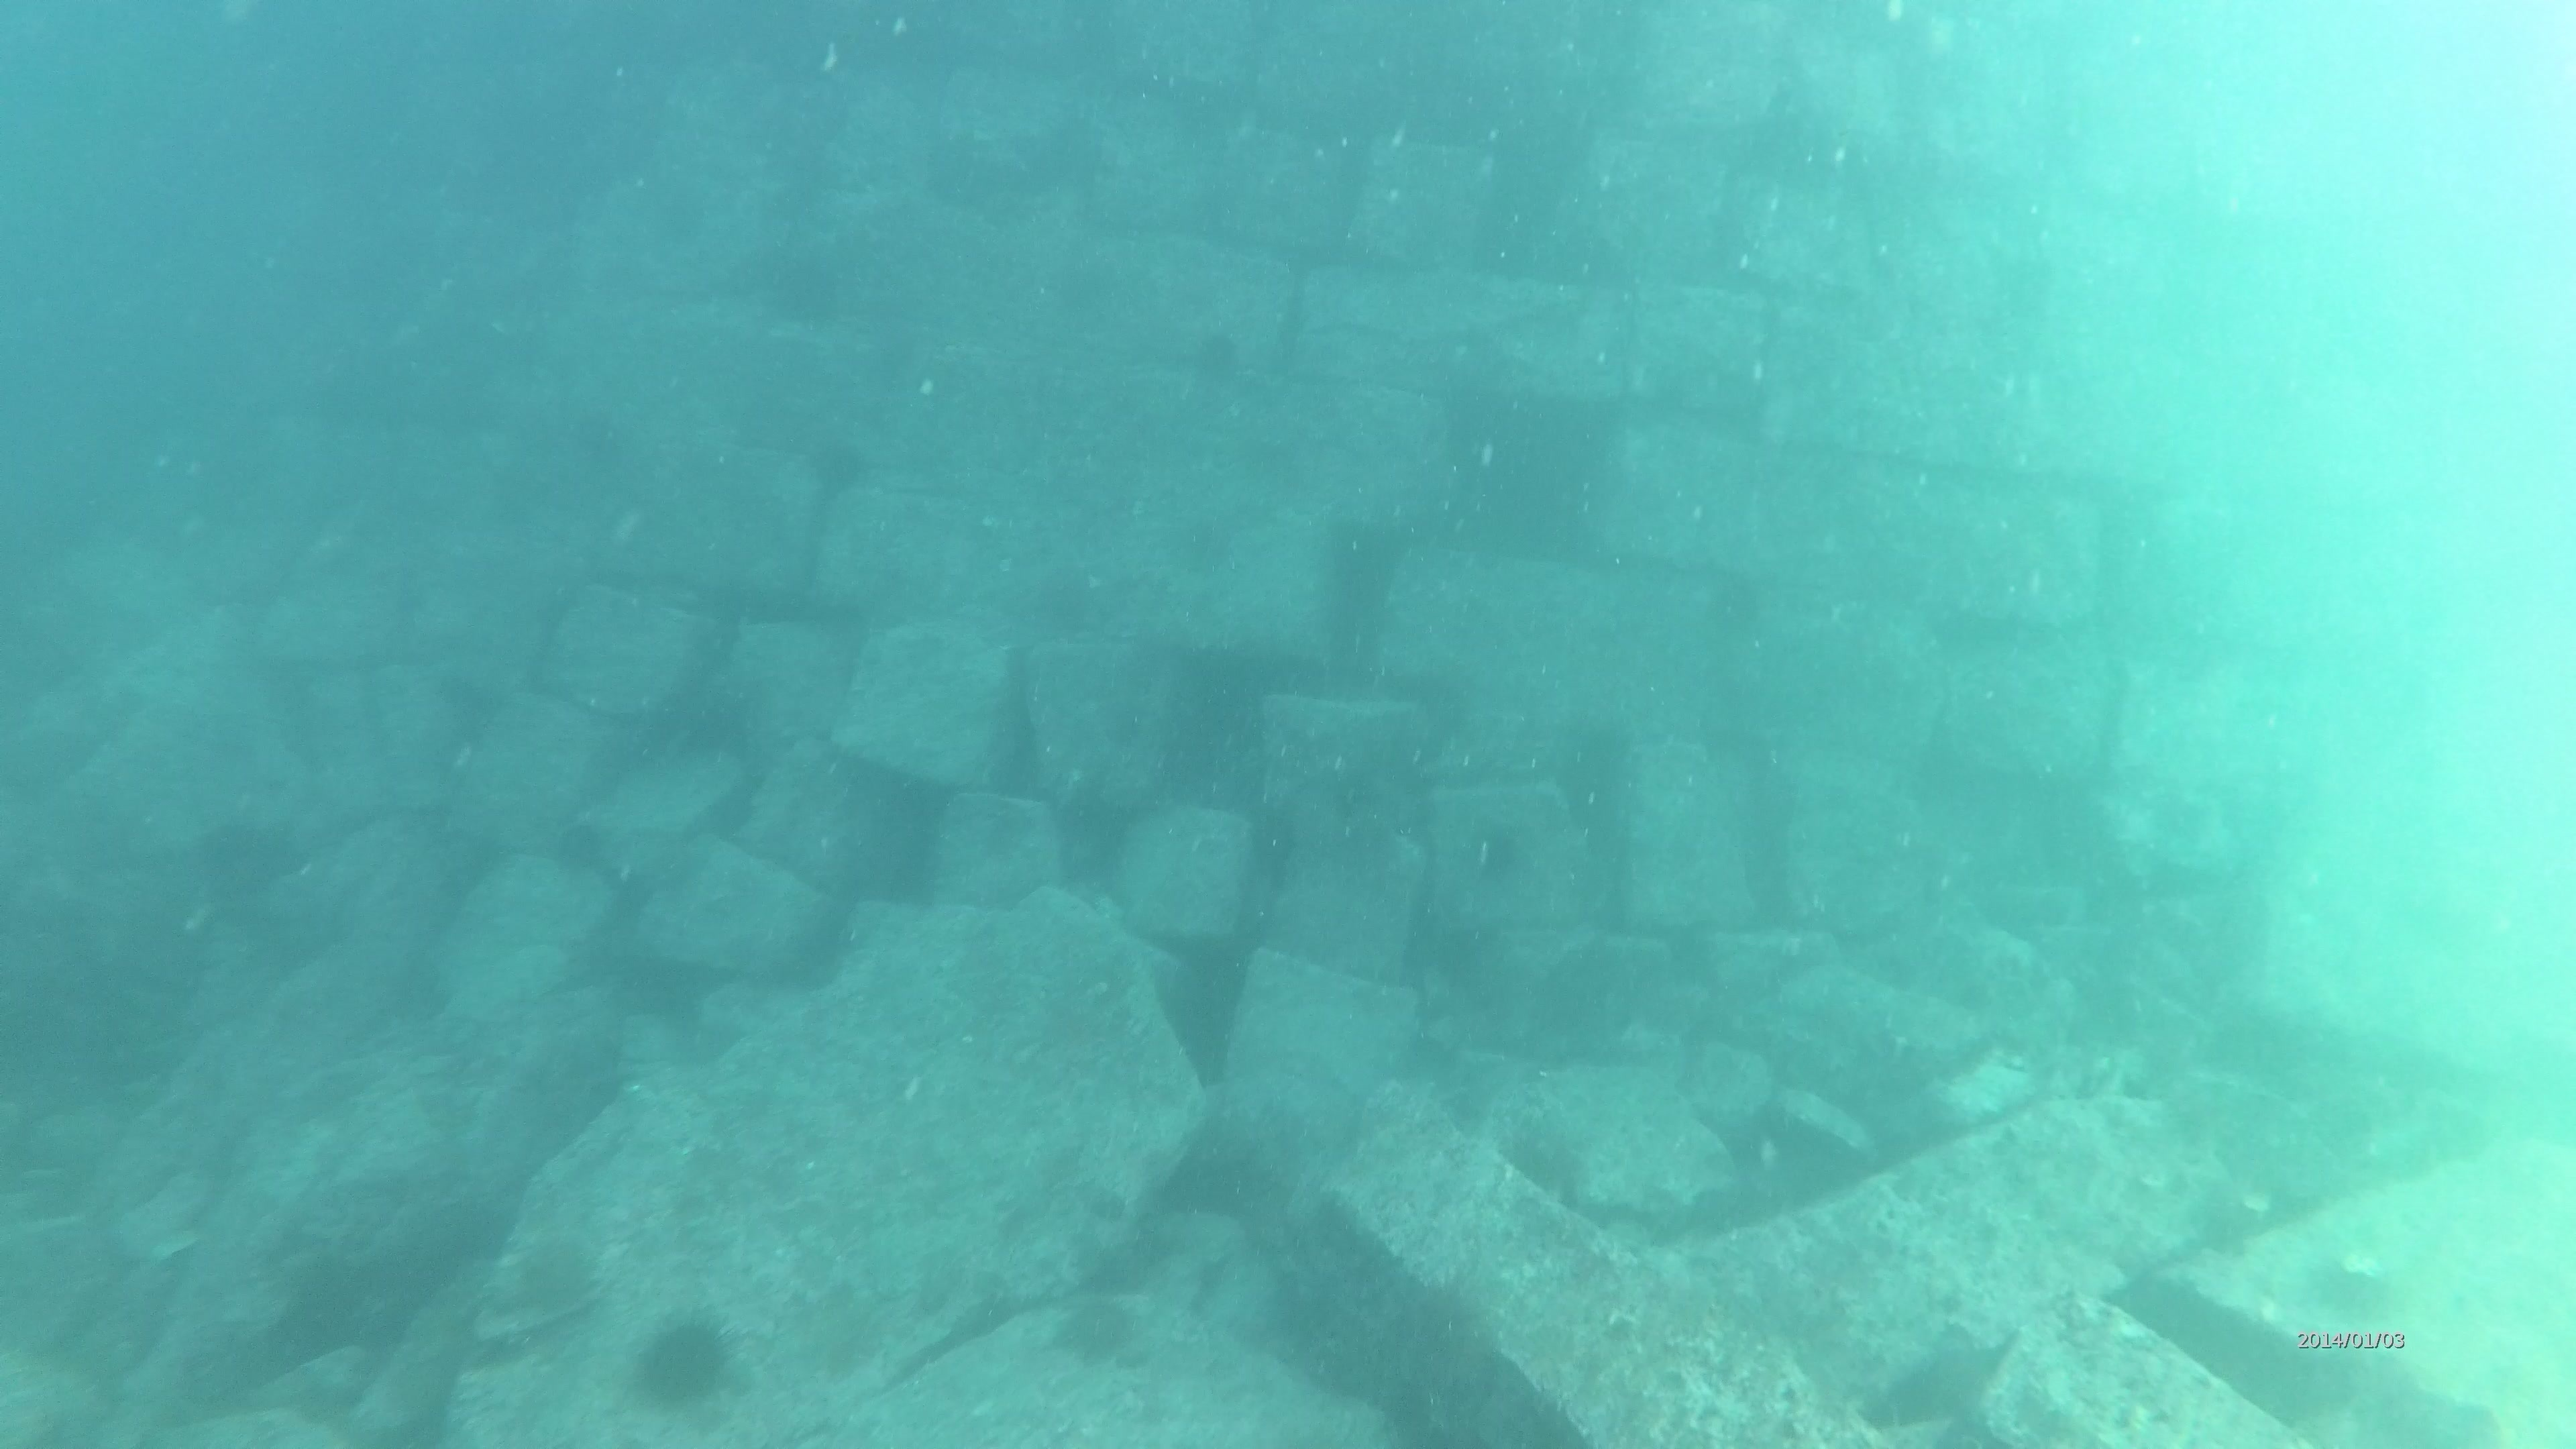echinus: (623, 1304, 745, 1417), (504, 1226, 607, 1327), (1047, 1283, 1150, 1373), (778, 255, 855, 333), (810, 441, 869, 502), (437, 669, 494, 720), (1472, 823, 1523, 869), (1035, 563, 1086, 609), (556, 824, 603, 870), (984, 816, 1033, 858), (1194, 341, 1235, 379), (1122, 648, 1162, 685)
